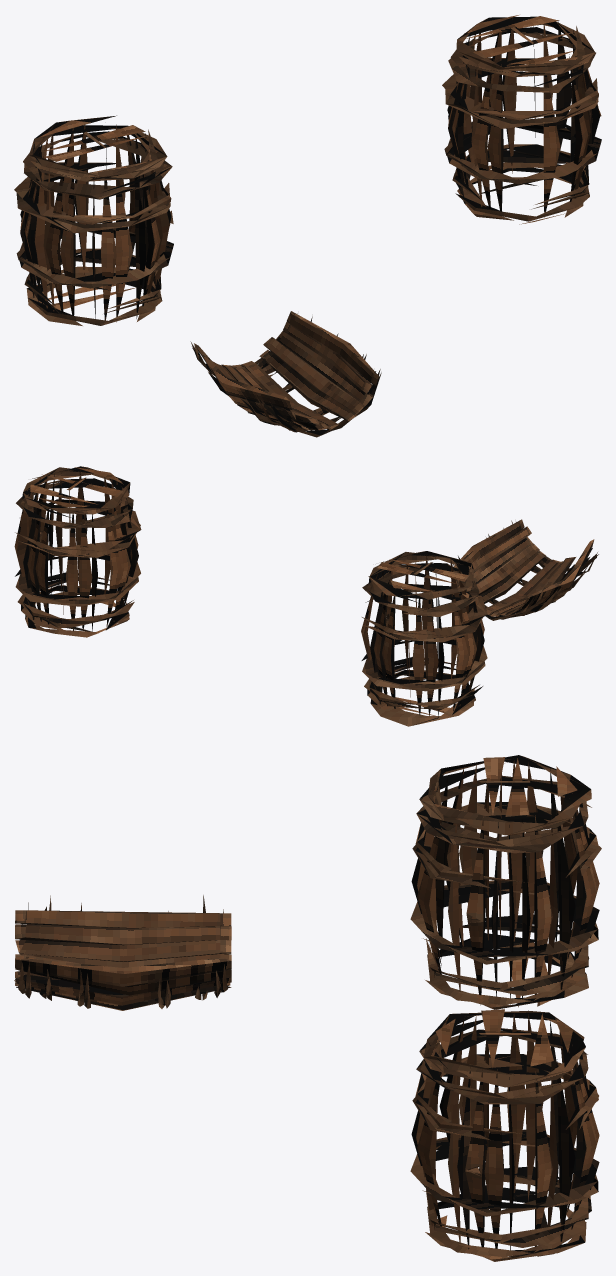
Rendered from wooden_barrels_01.glb.
3 renders of one model, top to bottom at view 1: azimuth 30°, elevation 25°; view 2: azimuth 150°, elevation 25°; view 3: azimuth 270°, elevation 25°, orthographic. The views are drawn at different scales.
Visible parts, largest first — view 1: wooden_barrels_01_barrel02, wooden_barrels_01_barrel01, wooden_barrels_01_piece01; view 2: wooden_barrels_01_barrel02, wooden_barrels_01_barrel01, wooden_barrels_01_piece01; view 3: wooden_barrels_01_barrel02, wooden_barrels_01_barrel01, wooden_barrels_01_piece01.
Boxes of the visible parts, x1=… form: wooden_barrels_01_barrel02: x1=14, y1=115, x2=173, y2=325; wooden_barrels_01_barrel01: x1=442, y1=15, x2=601, y2=224; wooden_barrels_01_piece01: x1=190, y1=311, x2=381, y2=437; wooden_barrels_01_barrel02: x1=361, y1=551, x2=487, y2=726; wooden_barrels_01_barrel01: x1=14, y1=466, x2=141, y2=637; wooden_barrels_01_piece01: x1=451, y1=519, x2=598, y2=620; wooden_barrels_01_barrel02: x1=410, y1=755, x2=601, y2=1009; wooden_barrels_01_barrel01: x1=410, y1=1009, x2=599, y2=1261; wooden_barrels_01_piece01: x1=14, y1=895, x2=231, y2=1010.
Bounding box in the file's own units: 3.2 × 0.902 × 2.38.
Materials: 3 (3 with a texture image).
